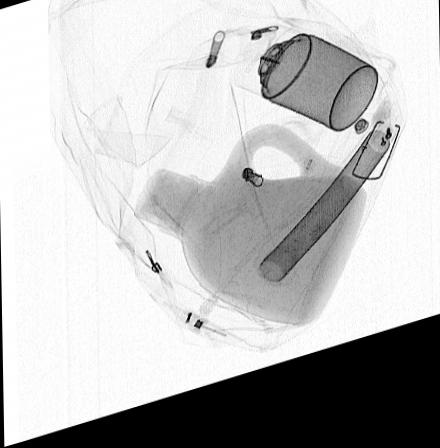Sprayer: (230, 36, 379, 151)
